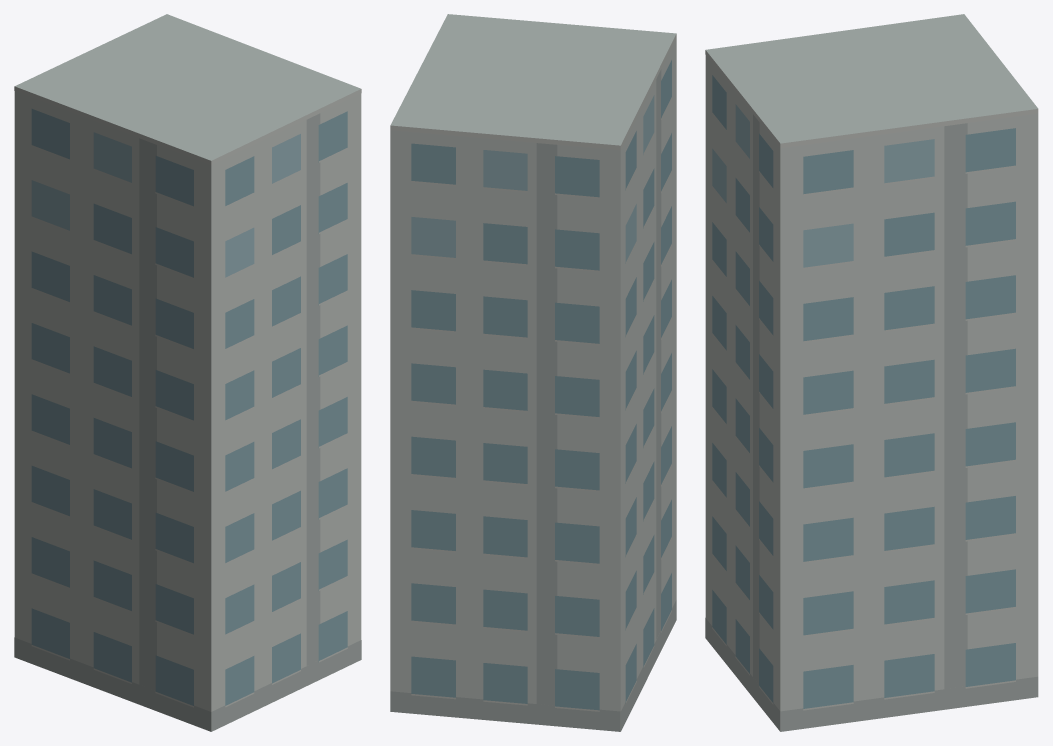
The model's file is survey-upis-32560905.glb.
3 renders of one model, left to right at view 1: azimuth 30°, elevation 25°; view 2: azimuth 150°, elevation 25°; view 3: azimuth 270°, elevation 25°, orthographic. The views are drawn at different scales.
Parts seen in each view (by area): view 1: survey-upis-32560905.tmp; view 2: survey-upis-32560905.tmp; view 3: survey-upis-32560905.tmp.
Part boxes in pixels (x1,y1,x2,y2): survey-upis-32560905.tmp: (14, 14, 361, 731); survey-upis-32560905.tmp: (390, 14, 676, 731); survey-upis-32560905.tmp: (705, 14, 1038, 731).
Bounding box in the file's own units: 14.13 × 29.9 × 15.34.
